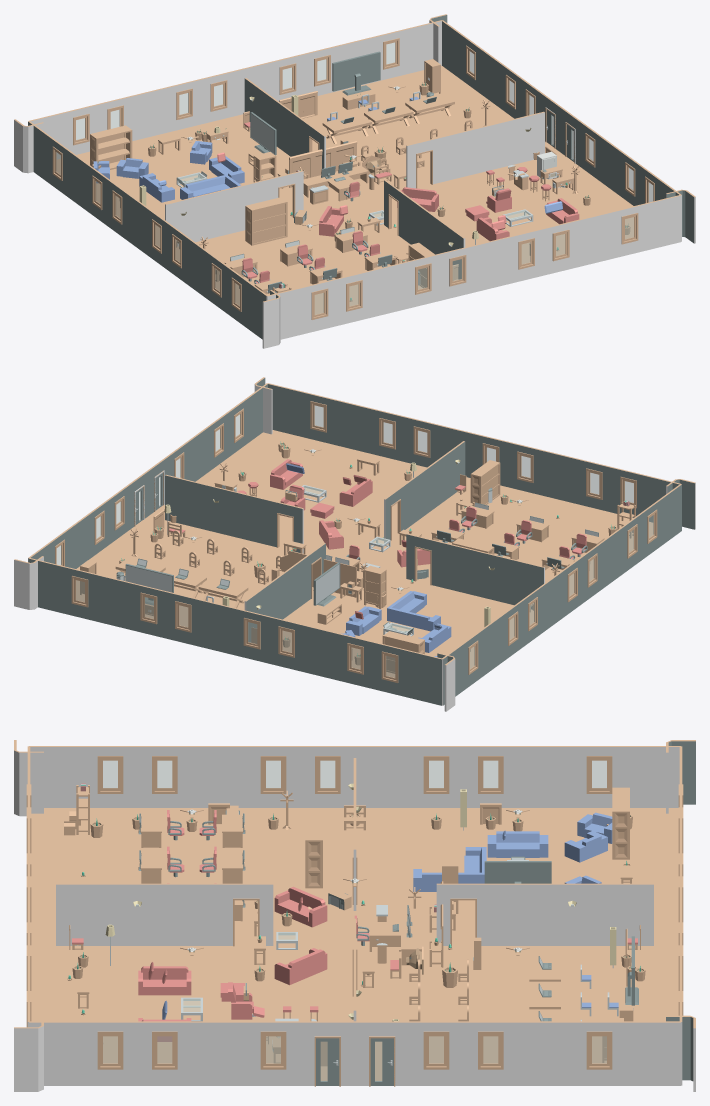
File: office.glb
3 renders of one model, top to bottom at view 1: azimuth 30°, elevation 25°; view 2: azimuth 150°, elevation 25°; view 3: azimuth 270°, elevation 25°, orthographic. The views are drawn at different scales.
Visible parts, largest first — view 1: bookcaseClosedWide(Clone), wall(Clone).001, wall(Clone).004, wall(Clone).003, wall(Clone).002, wall(Clone).006, televisionModern(Clone).001, wall(Clone).022, wall(Clone).023, wall(Clone).020, wall(Clone).024, wallWindow(Clone).005 (+79 smaller); view 2: wall(Clone).005, wall(Clone).006, wall(Clone).008, wall(Clone).007, wall(Clone).001, wall(Clone).021, wall(Clone).022, wall(Clone).003, wall(Clone).020, wall(Clone).023, wall(Clone).024, wallWindow(Clone).012 (+89 smaller); view 3: wall(Clone).016, wall(Clone).017, wall(Clone).018, wall(Clone).027, wall(Clone).028, wall(Clone).029, wall(Clone).013, wall(Clone).026, wall(Clone).012, wall(Clone).025, wall(Clone).011, wall(Clone).030 (+139 smaller).
Part boxes in pixels (x1,y1,x2,y2): bookcaseClosedWide(Clone): [245, 197, 287, 245]; wall(Clone).001: [371, 262, 405, 317]; wall(Clone).004: [646, 195, 681, 250]; wall(Clone).003: [577, 211, 612, 266]; wall(Clone).002: [474, 237, 509, 292]; wall(Clone).006: [132, 87, 167, 140]; televisionModern(Clone).001: [332, 51, 380, 95]; wall(Clone).022: [441, 128, 475, 181]; wall(Clone).023: [475, 120, 510, 173]; wall(Clone).020: [200, 187, 234, 240]; wall(Clone).024: [510, 111, 544, 164]; wallWindow(Clone).005: [543, 220, 578, 275]; wall(Clone).005: [407, 650, 442, 705]; wall(Clone).006: [304, 625, 338, 680]; wall(Clone).008: [97, 574, 132, 629]; wall(Clone).007: [200, 600, 235, 655]; wall(Clone).001: [542, 450, 577, 503]; wall(Clone).021: [440, 542, 475, 595]; wall(Clone).022: [234, 491, 268, 544]; wall(Clone).003: [336, 400, 370, 453]; wall(Clone).020: [475, 550, 509, 603]; wall(Clone).023: [199, 483, 234, 536]; wall(Clone).024: [165, 474, 199, 528]; wallWindow(Clone).012: [131, 583, 166, 638]; wall(Clone).016: [192, 1021, 246, 1085]; wall(Clone).017: [518, 1021, 572, 1085]; wall(Clone).018: [626, 1021, 680, 1085]; wall(Clone).027: [164, 883, 218, 945]; wall(Clone).028: [491, 883, 545, 945]; wall(Clone).029: [545, 883, 599, 945]; wall(Clone).013: [518, 746, 572, 807]; wall(Clone).026: [110, 883, 164, 945]; wall(Clone).012: [355, 746, 409, 807]; wall(Clone).025: [56, 883, 110, 945]; wall(Clone).011: [192, 746, 246, 807]; wall(Clone).030: [599, 883, 653, 945].
Bounding box in the file's own units: 25.1 × 2.76 × 25.1.
